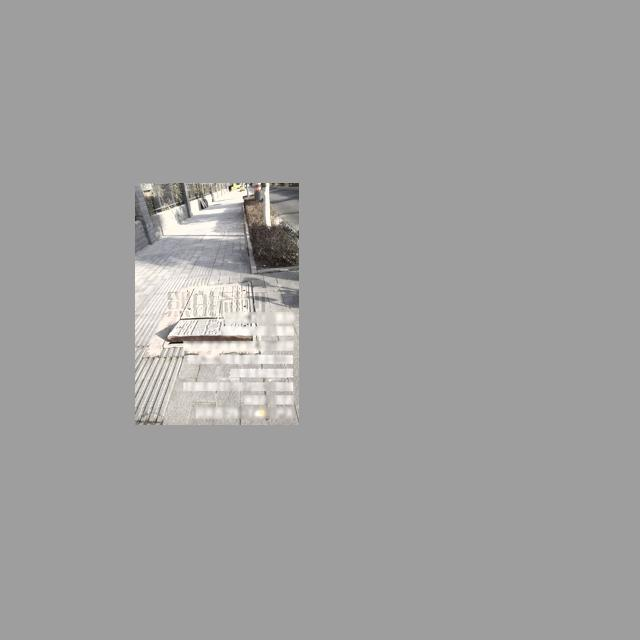uncovered: (163, 281, 260, 348)
